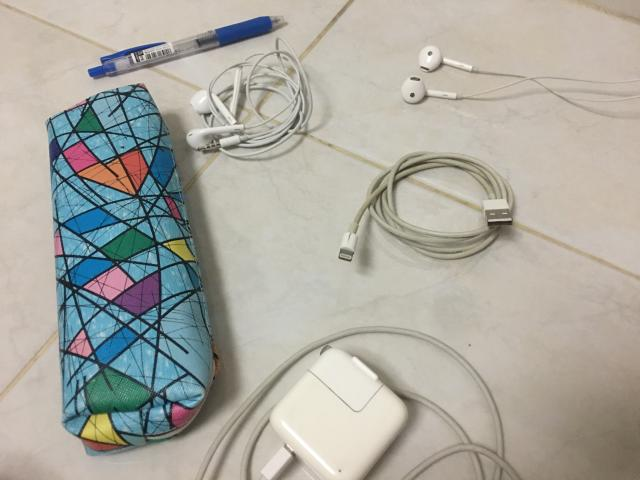Pen: (89, 16, 285, 78)
wire: (195, 326, 521, 480), (339, 151, 514, 261), (186, 38, 312, 158), (402, 46, 640, 102)
